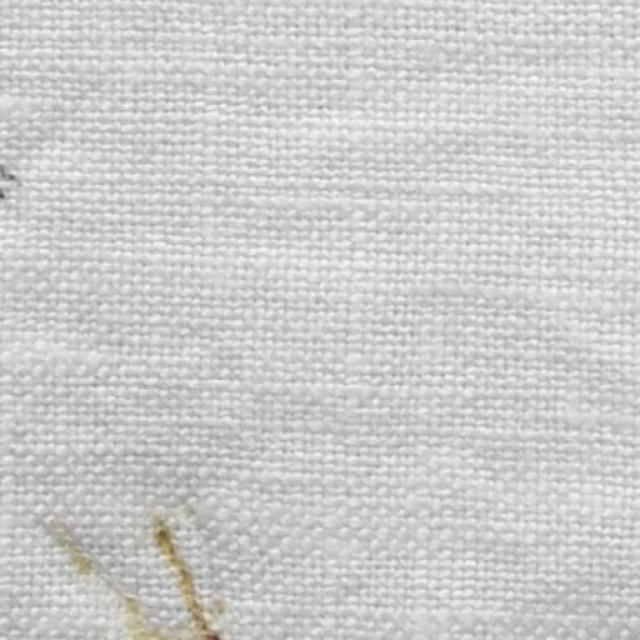Stain: (28, 495, 224, 640), (0, 156, 16, 199)
